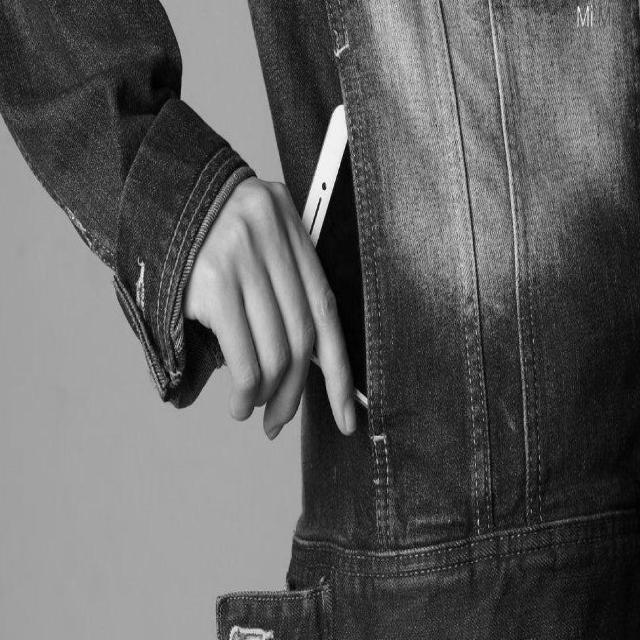No gun_phone: (301, 104, 370, 414)
